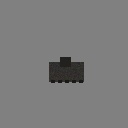armoured_vehicle: (49, 62, 84, 82)
